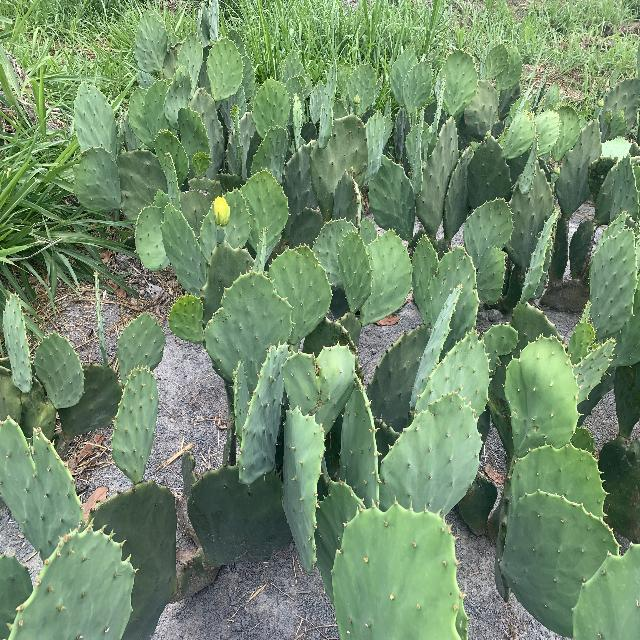Cortar: (509, 342, 624, 486), (316, 332, 413, 433), (406, 0, 518, 85), (283, 91, 336, 227)
Não cortar: (451, 155, 566, 279), (54, 457, 167, 577), (245, 174, 330, 318), (131, 153, 236, 264), (27, 167, 113, 287), (1, 245, 89, 346), (486, 63, 583, 143), (41, 44, 118, 142), (155, 6, 218, 110), (359, 86, 415, 201), (433, 319, 495, 377), (241, 84, 287, 153), (291, 42, 332, 89)
